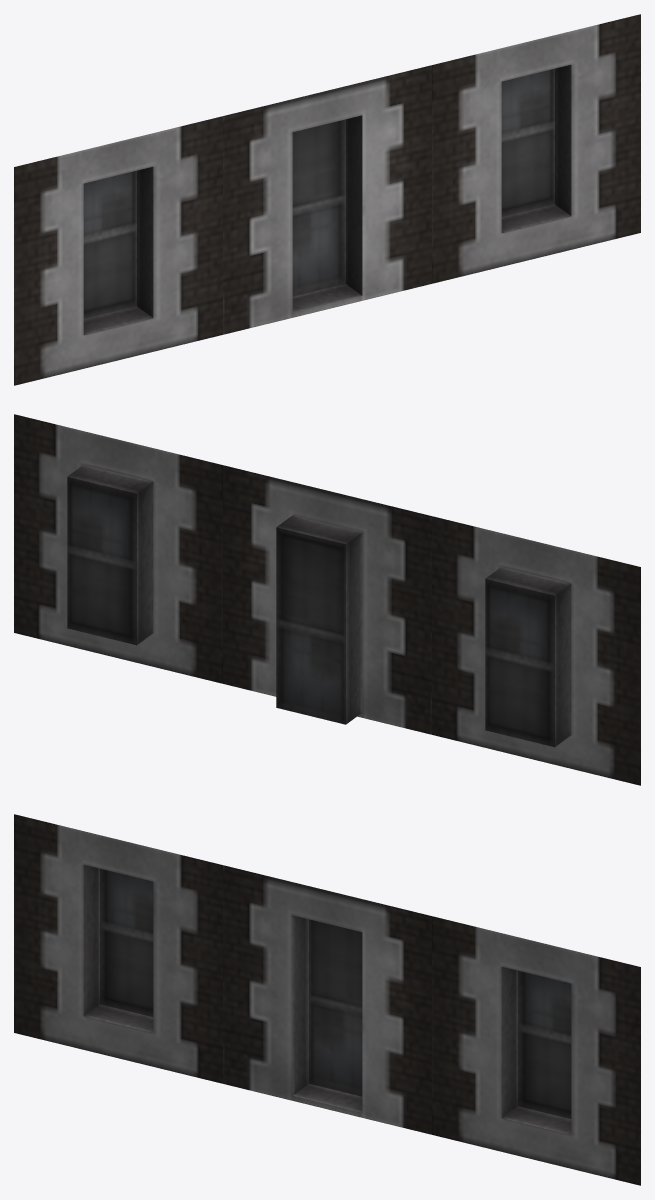
File: B6_Window3x.FBX
3 views of the same model, one above another, from view 1: azimuth 30°, elevation 25°; view 2: azimuth 150°, elevation 25°; view 3: azimuth 330°, elevation 25° (orthographic).
Visible parts, largest first — view 1: B6_Window3x; view 2: B6_Window3x; view 3: B6_Window3x.
Part boxes in pixels (x1=…): B6_Window3x: x1=14, y1=14, x2=640, y2=385; B6_Window3x: x1=14, y1=414, x2=640, y2=785; B6_Window3x: x1=14, y1=814, x2=640, y2=1185.
Size of the model in its own units: 12 by 4 by 0.5453.
